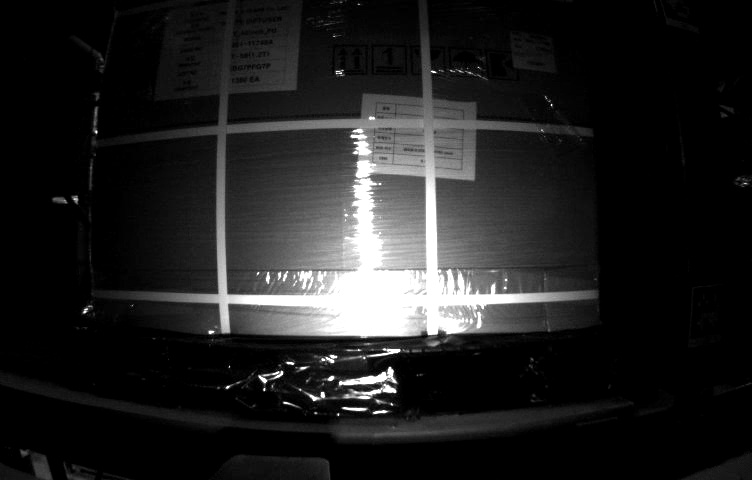True Barcode: (504, 30, 554, 76)
